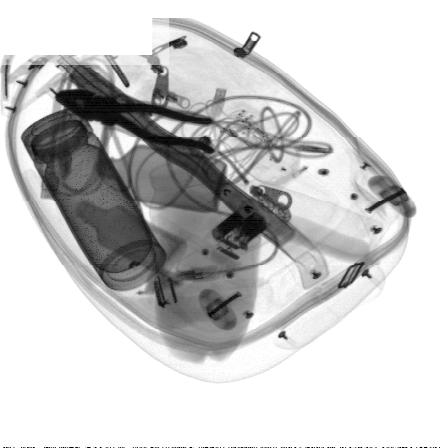Pliers: (54, 88, 215, 153)
